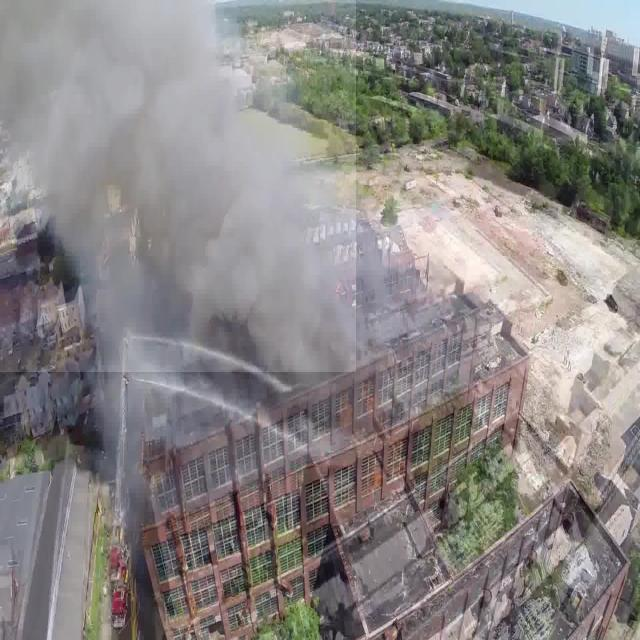Smoke: (0, 0, 356, 372)
